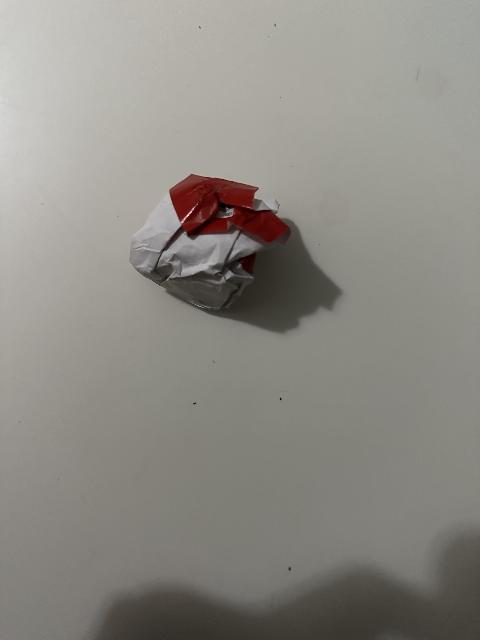Plastik: (124, 154, 300, 322)
